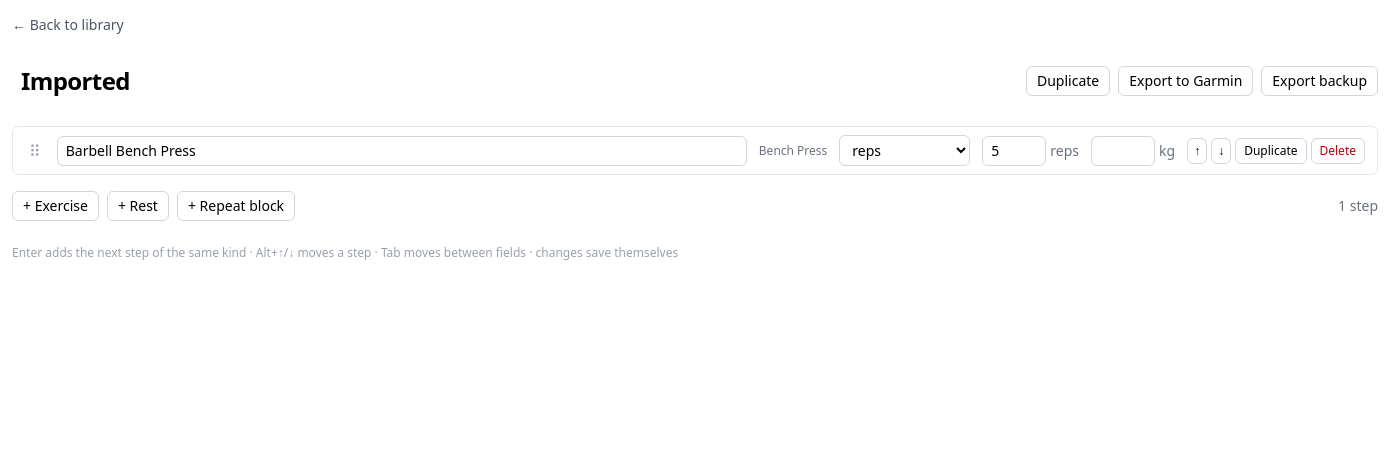
Test: WorkoutEditor › lists matches for the saved name when a filled box is focused again
What coordinates should you click on to do the following:
click the dropdown named "Exercise"
I would click on:
 (402, 150)
Its box is [57,136,747,166].
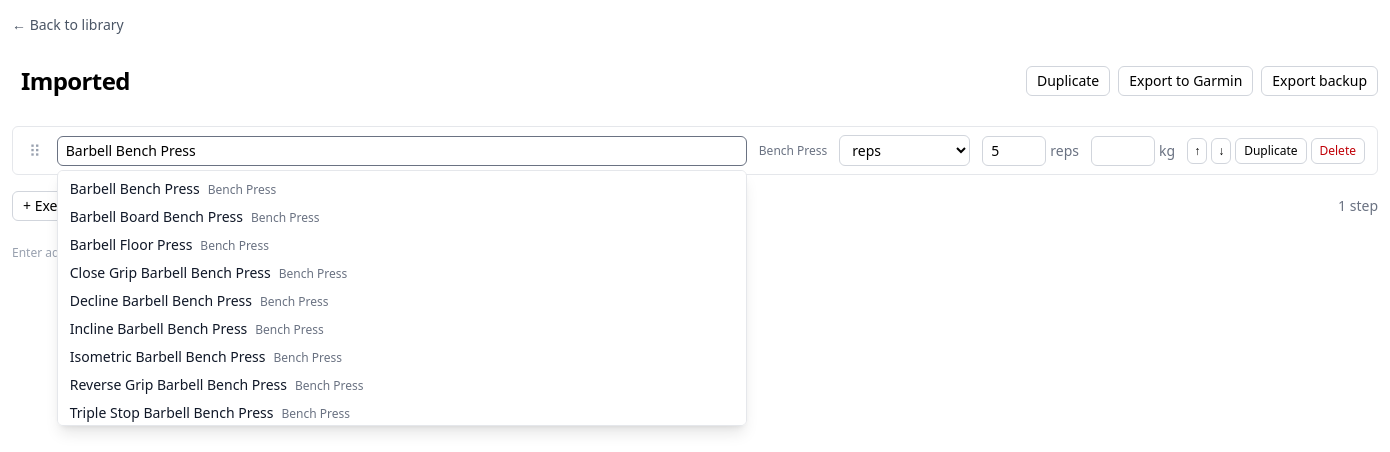
Check: the option "Barbell Bench Press Bench Press" is shown, box [70,178,276,198]
Check: the option "Barbell Board Bench Press Bench Press" is shown, box [70,206,320,226]
Check: the option "Barbell Floor Press Bench Press" is shown, box [70,234,269,254]
